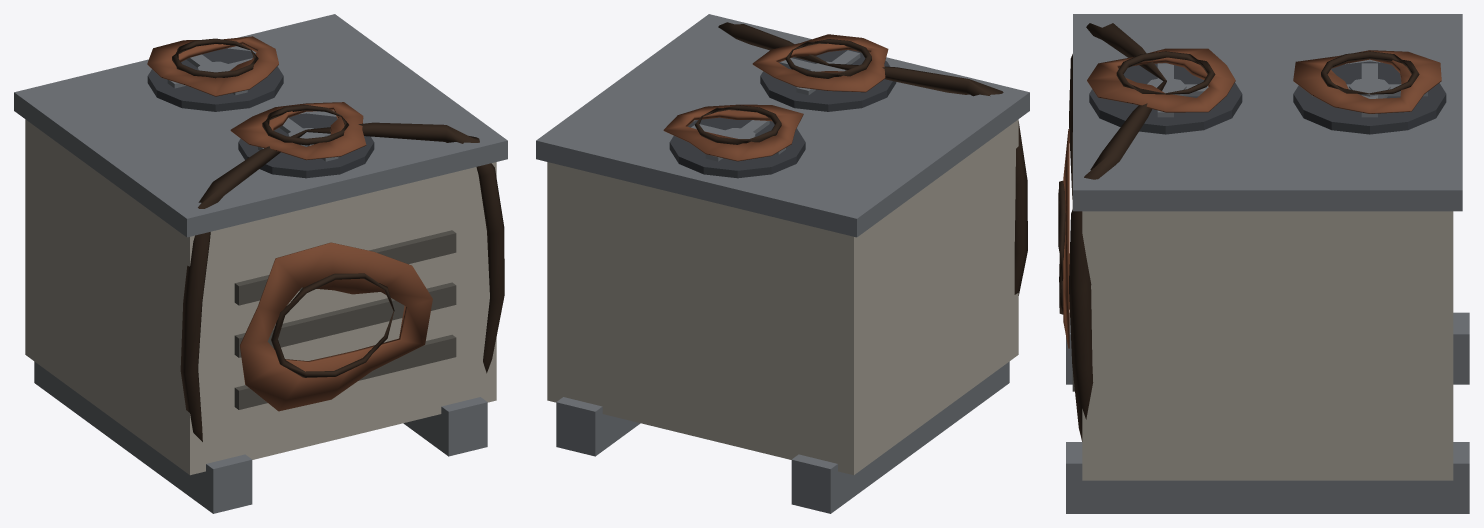
The model's file is prop-rooftop-hvac-infested-2.glb.
3 views of the same model, side by side, from view 1: azimuth 30°, elevation 25°; view 2: azimuth 150°, elevation 25°; view 3: azimuth 270°, elevation 25° (orthographic). The views are drawn at different scales.
Parts seen in each view (by area): view 1: equipment-body, top-panel, host_growth, support-rail, intake-louvre.001, fan-well.001, support-rail.001, fan-well, intake-louvre.002, intake-louvre; view 2: equipment-body, top-panel, host_growth, support-rail, fan-well.001, support-rail.001, fan-well; view 3: equipment-body, top-panel, host_growth, support-rail.001, fan-well.001, fan-well, support-rail, fan-hub.001.
Part boxes in pixels (<box>): equipment-body: <box>25,119,496,475</box>; top-panel: <box>14,14,507,237</box>; host_growth: <box>147,36,504,441</box>; support-rail: <box>34,361,252,513</box>; intake-louvre.001: <box>234,282,456,357</box>; fan-well.001: <box>147,48,283,111</box>; support-rail.001: <box>403,397,487,456</box>; fan-well: <box>238,113,374,178</box>; intake-louvre.002: <box>234,230,456,305</box>; intake-louvre: <box>234,334,456,409</box>; equipment-body: <box>547,119,1018,475</box>; top-panel: <box>536,14,1029,237</box>; host_growth: <box>663,22,1027,295</box>; support-rail: <box>791,361,1009,513</box>; fan-well.001: <box>669,117,805,178</box>; support-rail.001: <box>556,397,640,456</box>; fan-well: <box>760,50,896,111</box>; equipment-body: <box>1082,211,1453,480</box>; top-panel: <box>1073,14,1462,211</box>; host_growth: <box>1058,23,1441,441</box>; support-rail.001: <box>1066,442,1469,513</box>; fan-well.001: <box>1293,61,1446,134</box>; fan-well: <box>1089,63,1242,134</box>; support-rail: <box>1066,312,1469,384</box>; fan-hub.001: <box>1349,77,1390,98</box>.
Bounding box in the file's own units: 0.9029 × 0.8746 × 0.8866.
